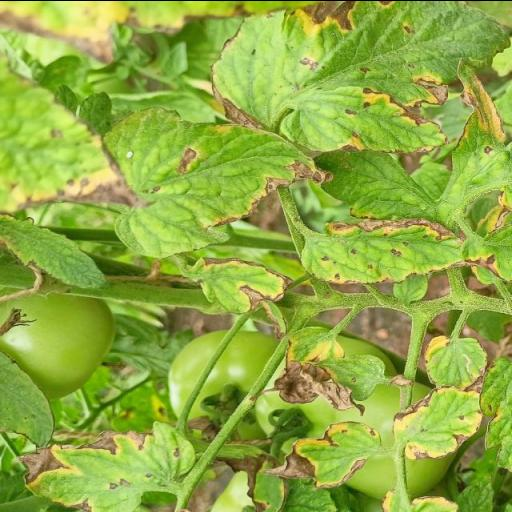Early Blight: (203, 0, 512, 128), (100, 104, 332, 260), (16, 418, 198, 512), (292, 214, 463, 288), (286, 84, 452, 158), (450, 57, 512, 221), (258, 421, 386, 489), (182, 254, 296, 318), (391, 382, 483, 458)
